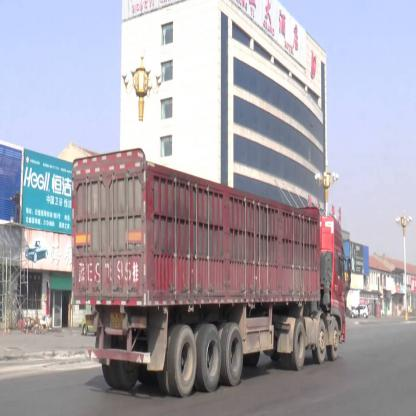normal-truck: (68, 146, 349, 377)
